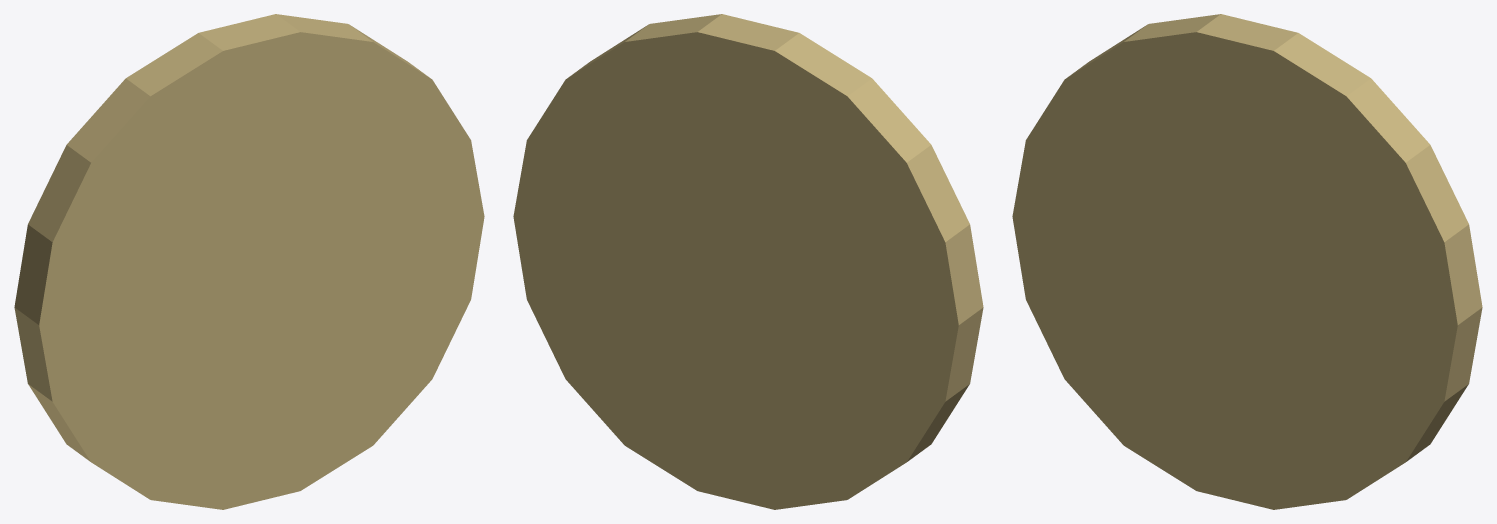
Rendered from outcome-medal-eco.glb.
3 renders of one model, left to right at view 1: azimuth 30°, elevation 25°; view 2: azimuth 150°, elevation 25°; view 3: azimuth 330°, elevation 25°, orthographic.
Parts seen in each view (by area): view 1: medal; view 2: medal; view 3: medal.
Part boxes in pixels (x1,y1,x2,y2): medal: [14, 14, 484, 509]; medal: [513, 14, 983, 509]; medal: [1012, 14, 1482, 509].
Bounding box in the file's own units: 1.04 × 1.02 × 0.1.
